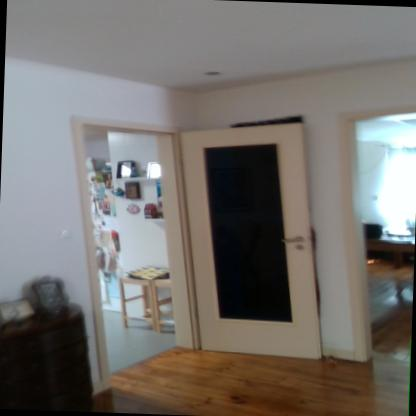open: (48, 95, 336, 404)
